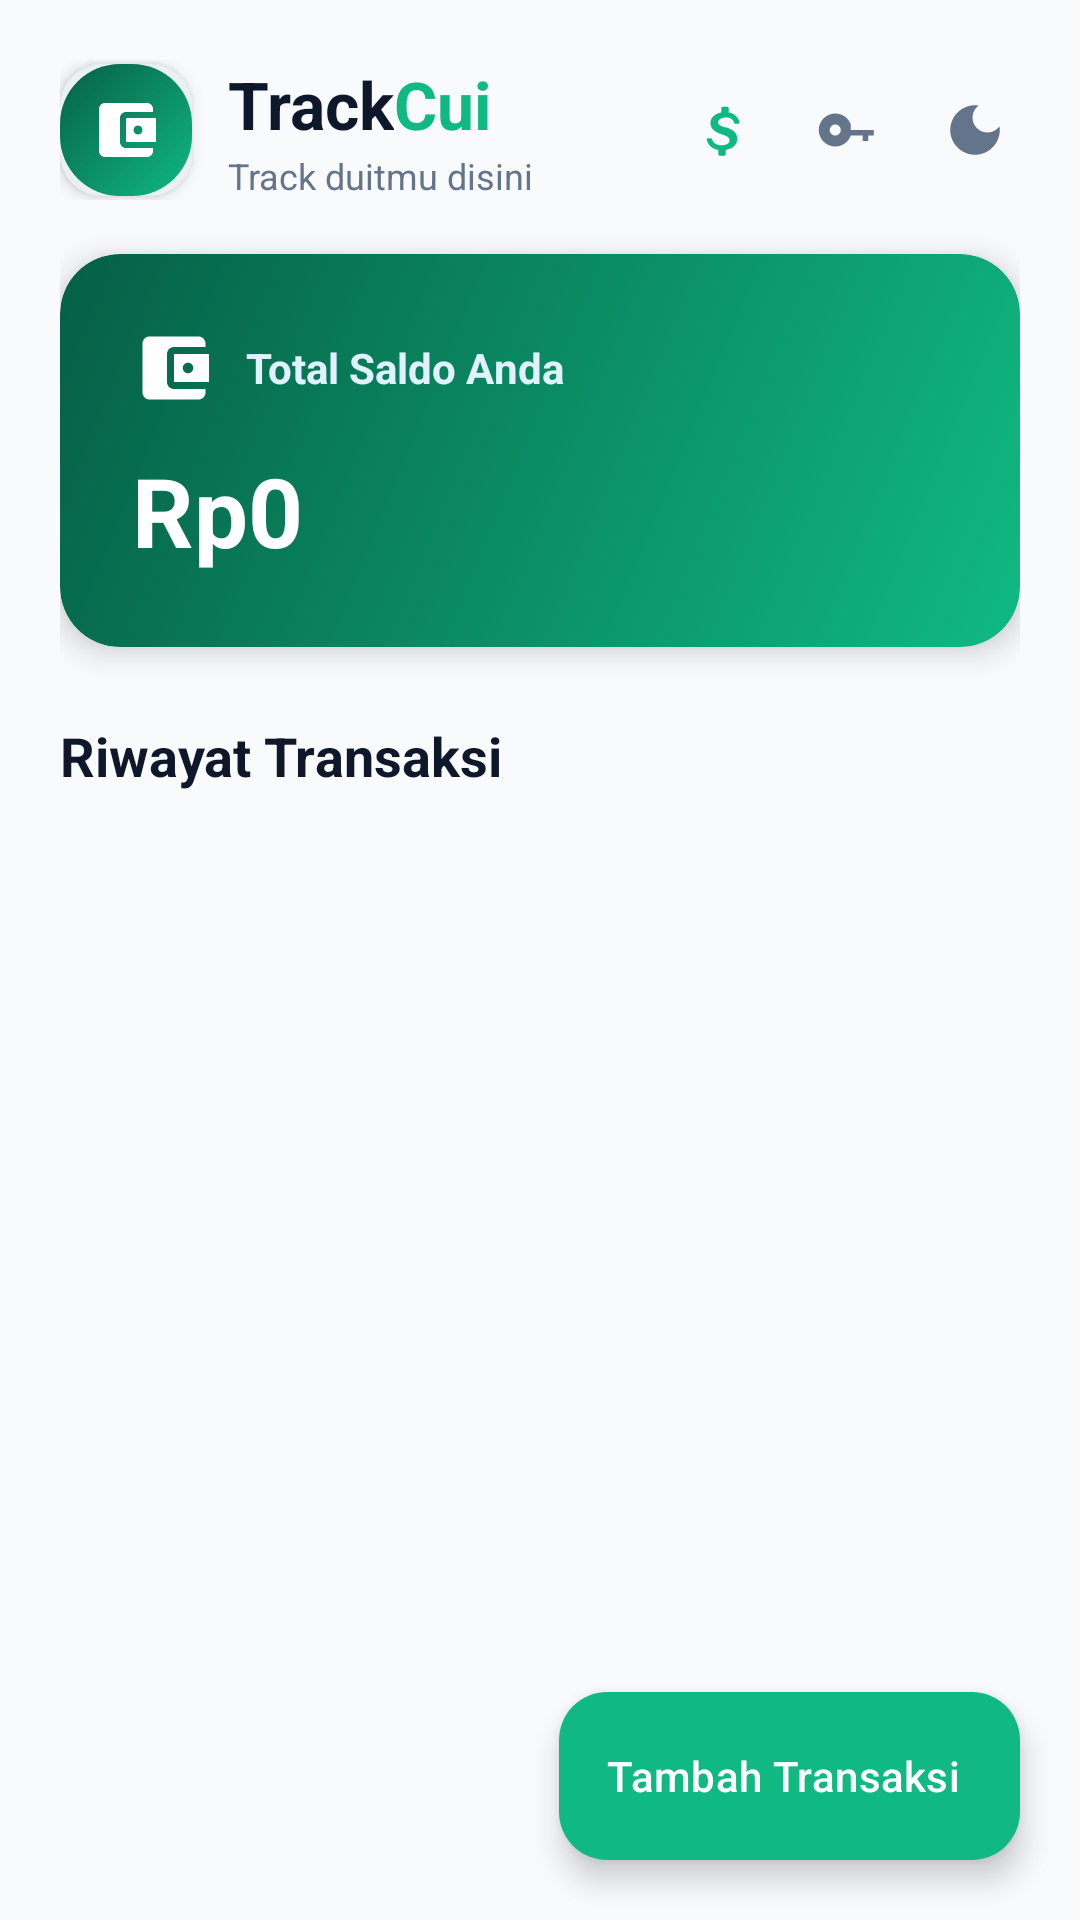

Icons on this 1080px×1920px Android screen, each with the point to tap as [x,y]:
currency: [723,131]
key: [846,130]
mode: [975,130]
wallet: [127,130], [175,368]
